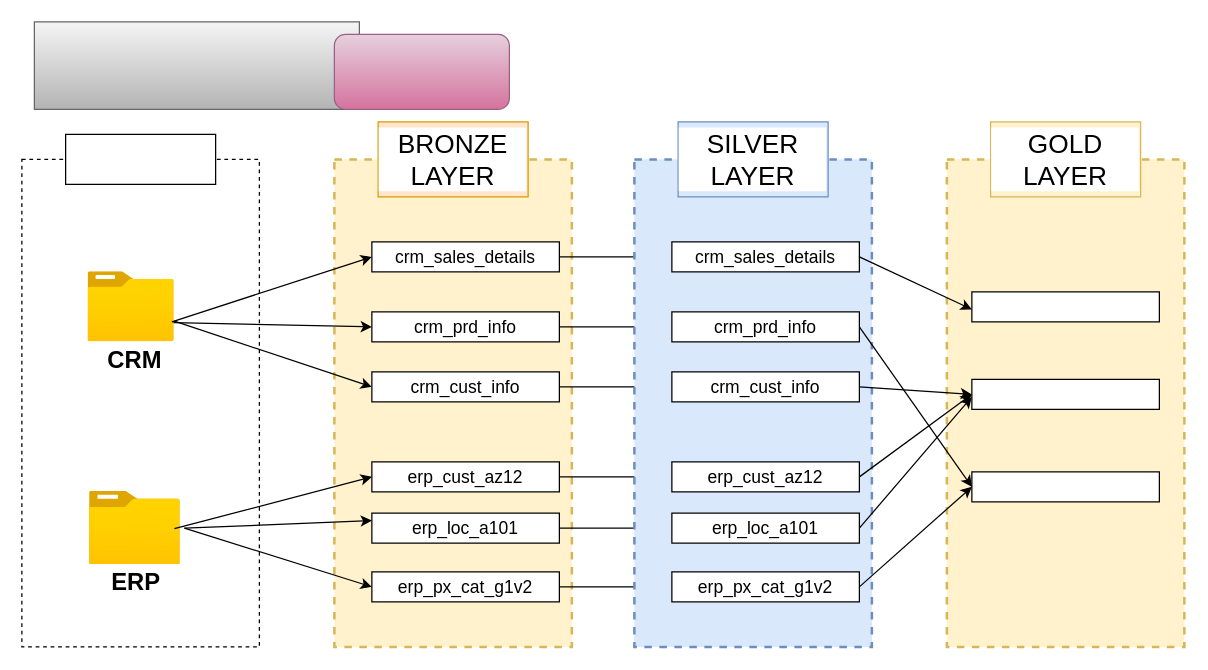
Some shapes in this 1208 by 670 pixel diagram are drawn without their labels. The shapes that lost their labels are listed below. From the top down, each one's box as (x1, y1, x2, y2) in pixels, then its label:
(33, 21, 359, 109): Data FLow Digram
(333, 33, 509, 109): ( Data Lineage )
(64, 133, 216, 184): Sources
(971, 291, 1159, 322): fact_sales
(971, 378, 1159, 409): dim_customer
(971, 471, 1159, 502): product_dim
